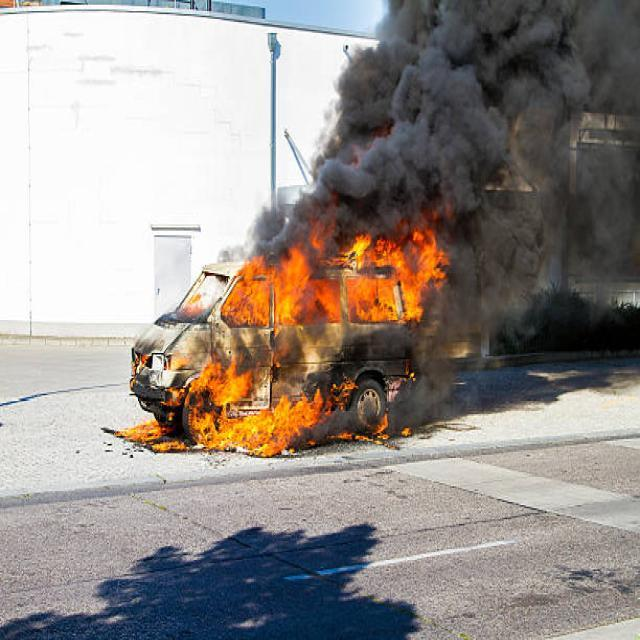Fire: (223, 212, 447, 326), (129, 357, 358, 455)
Smoke: (255, 0, 640, 444)
